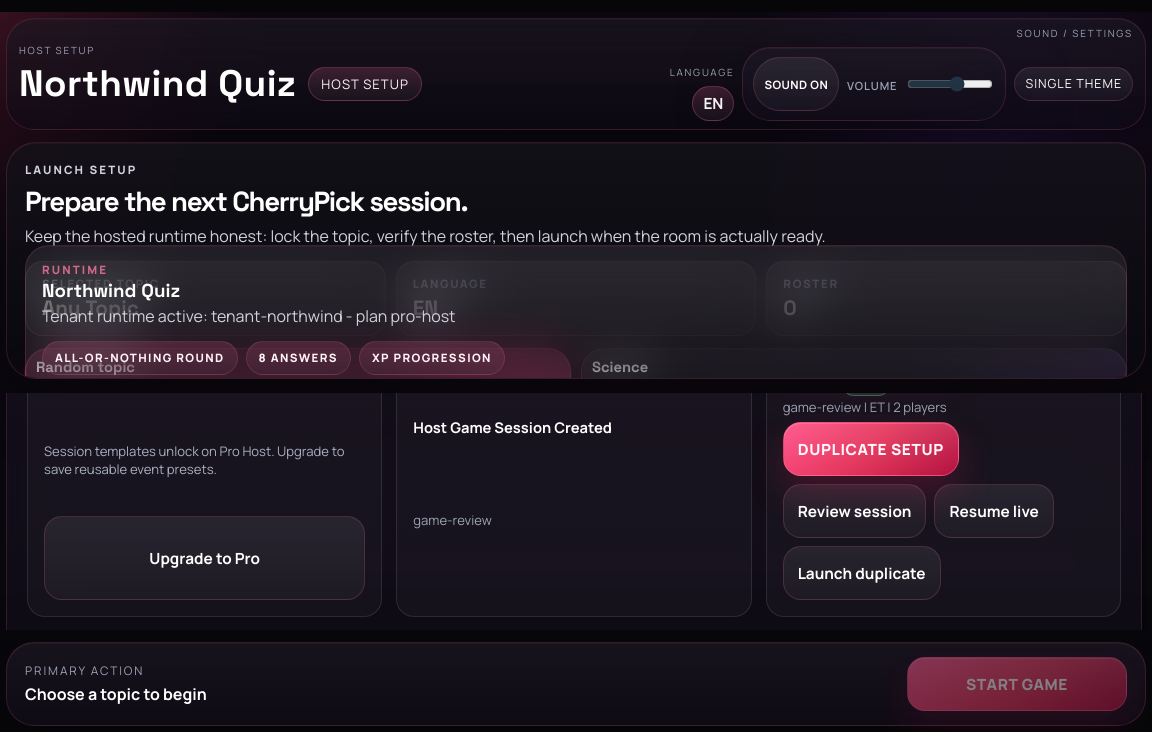
App tenant runtime integration › selected session detail workspace can resume live control from review panel
(page scrolled)
Click the button "Review session" at (855, 511), box x1=783 y1=484 x2=926 y2=538
(page scrolled)
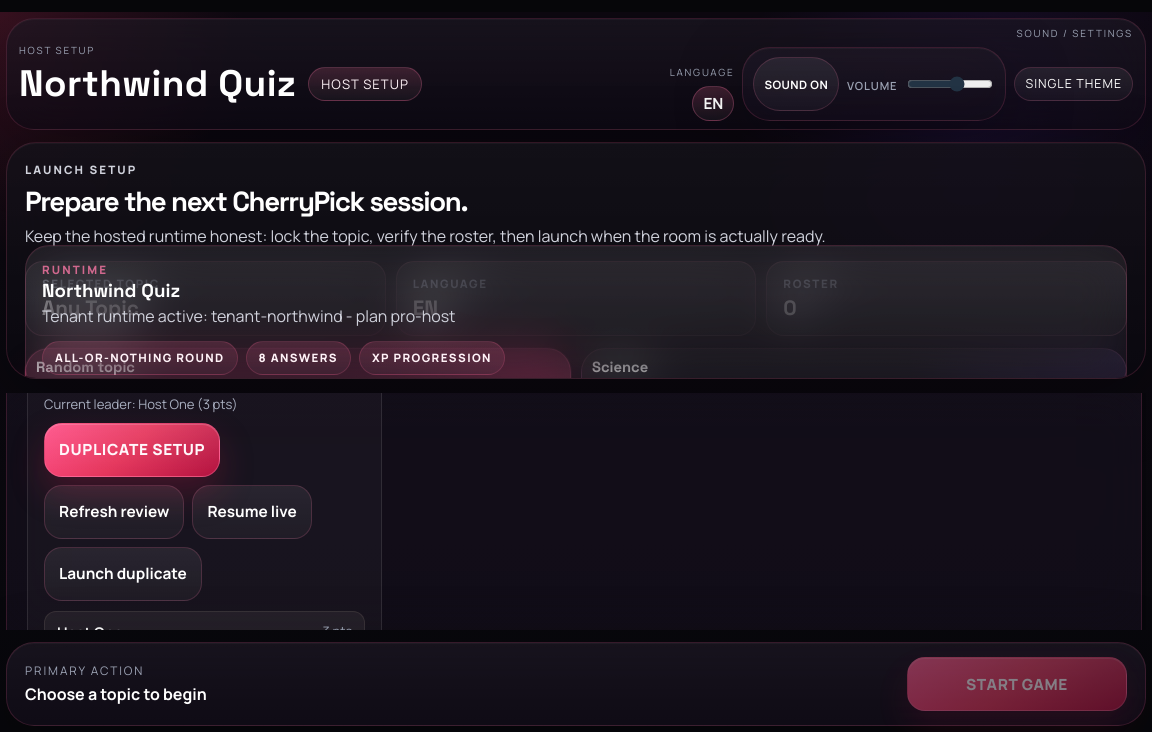
Click the button "Resume live" at (252, 512), box x1=192 y1=485 x2=312 y2=539
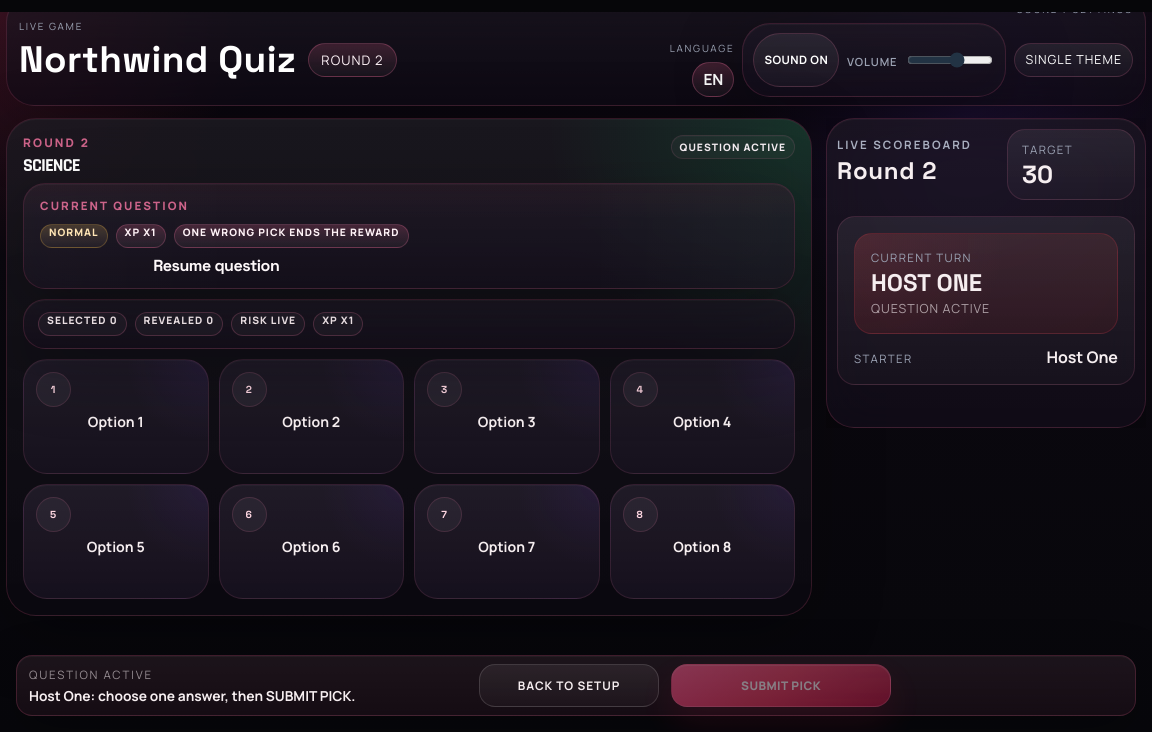
Result: the text "Resume question" is shown at x1=153 y1=255 x2=279 y2=276
